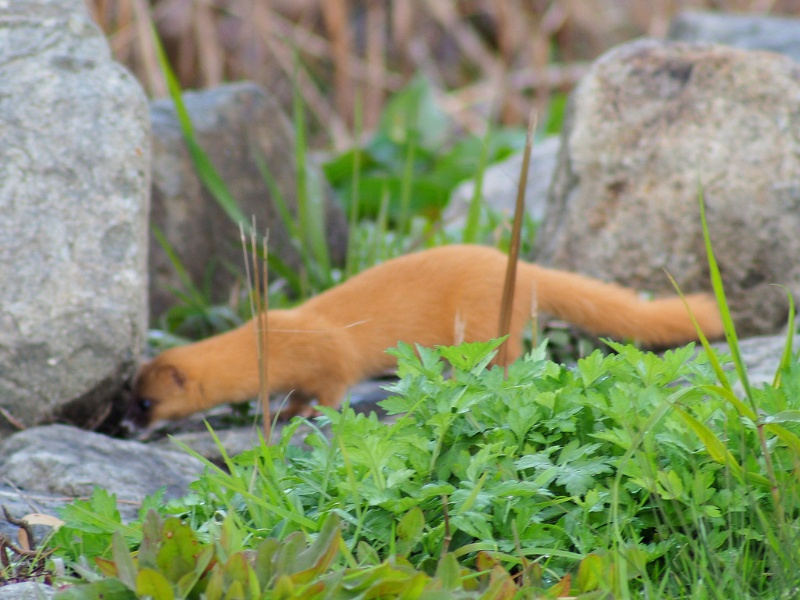minkish: (113, 242, 735, 451)
